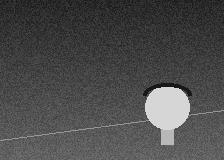no_helmet: (145, 83, 189, 134)
